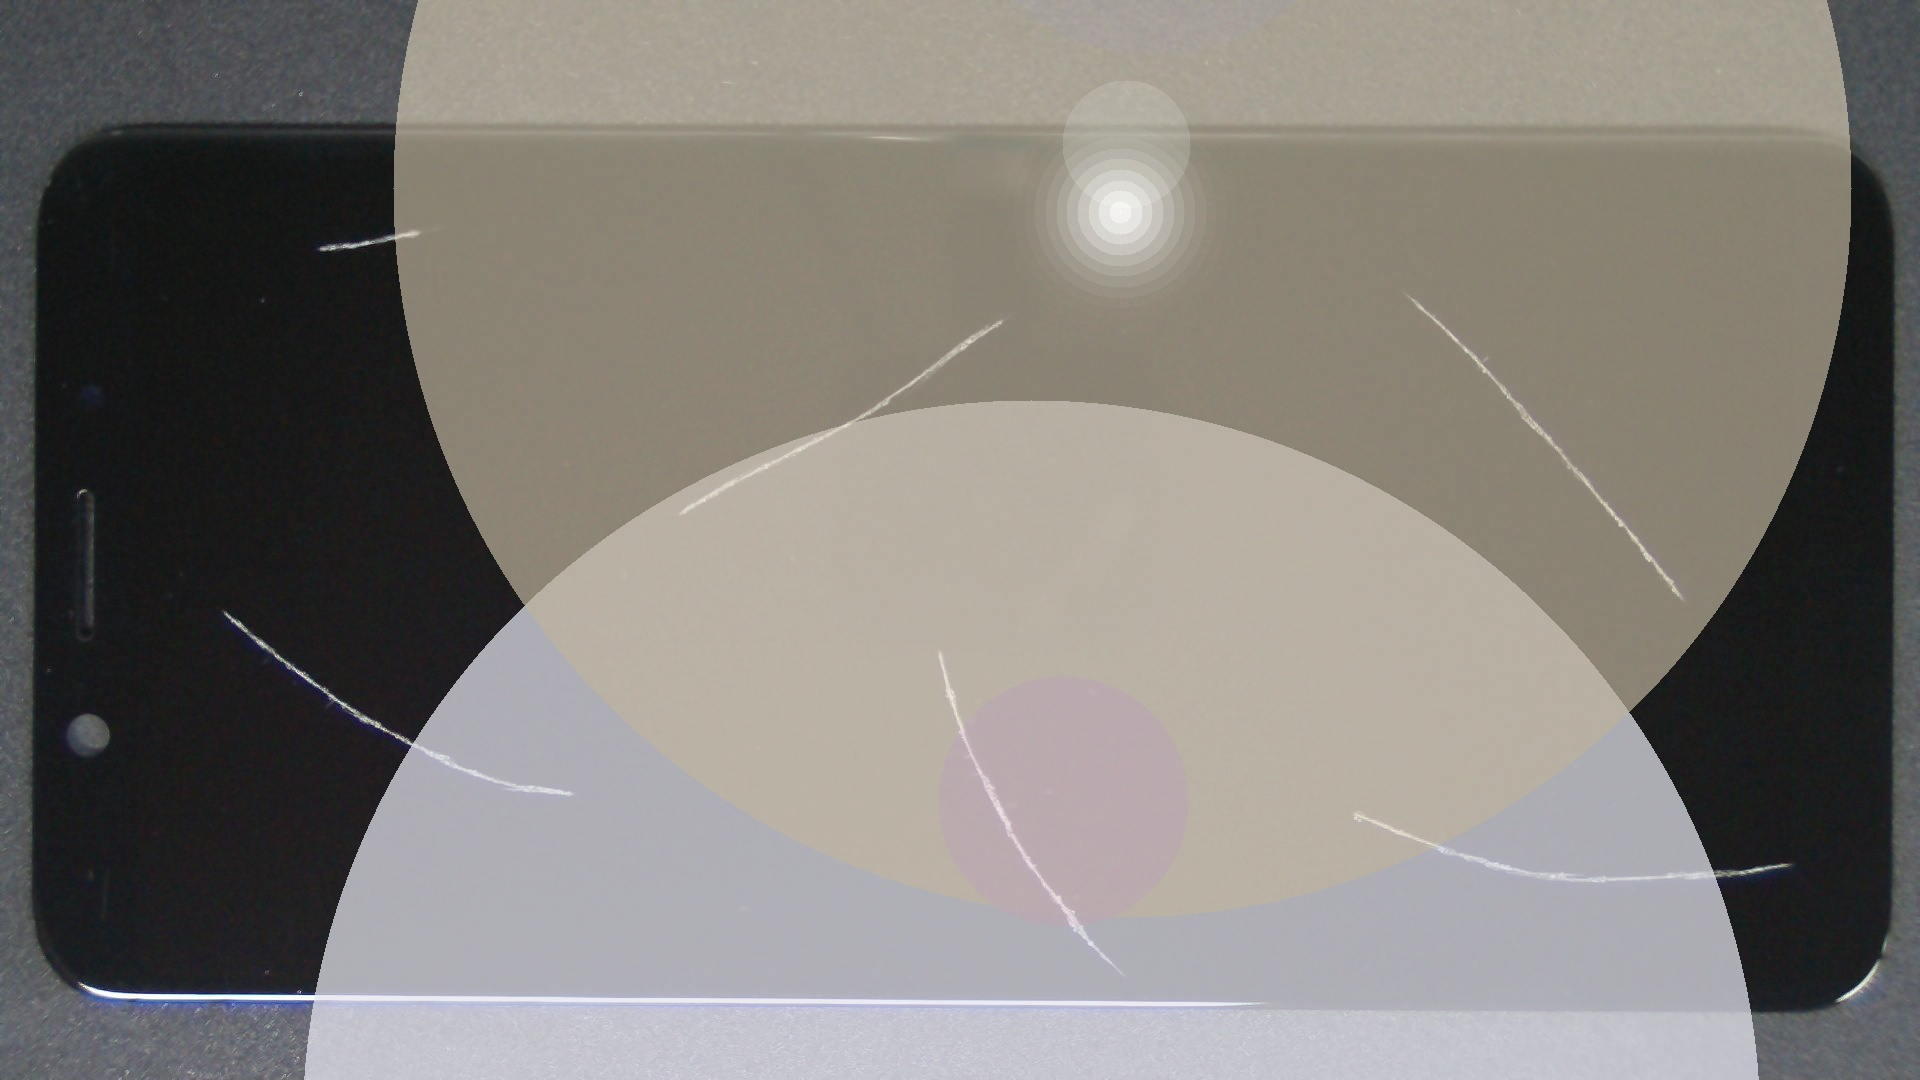oil: (679, 405, 1920, 1080), (471, 323, 1410, 972), (691, 136, 1920, 444), (500, 158, 1494, 480), (111, 303, 335, 913), (206, 113, 612, 343)
